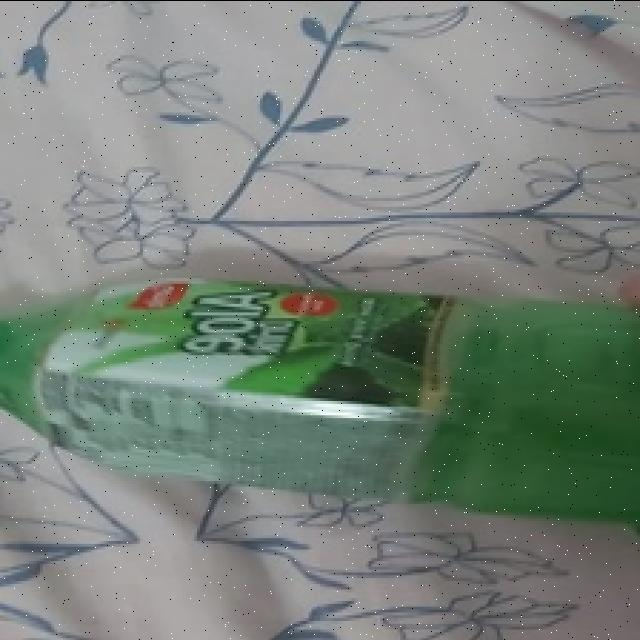plastic: (0, 258, 640, 556)
